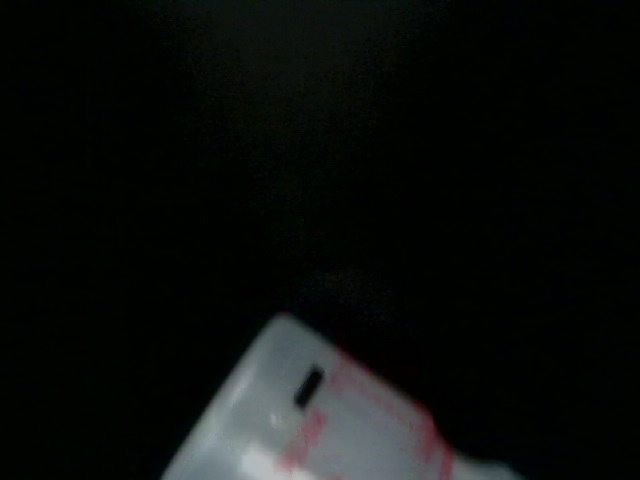CYLJ: (440, 249, 543, 338)
